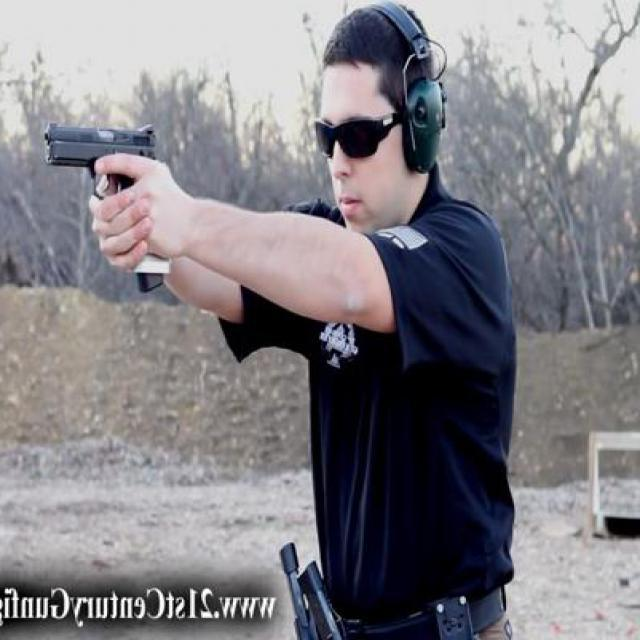Gun: (44, 120, 172, 290)
